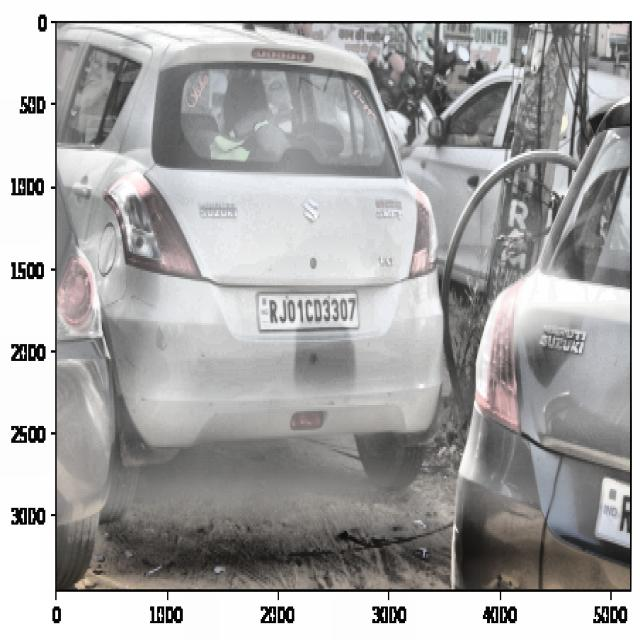license_plate: (264, 290, 358, 333)
